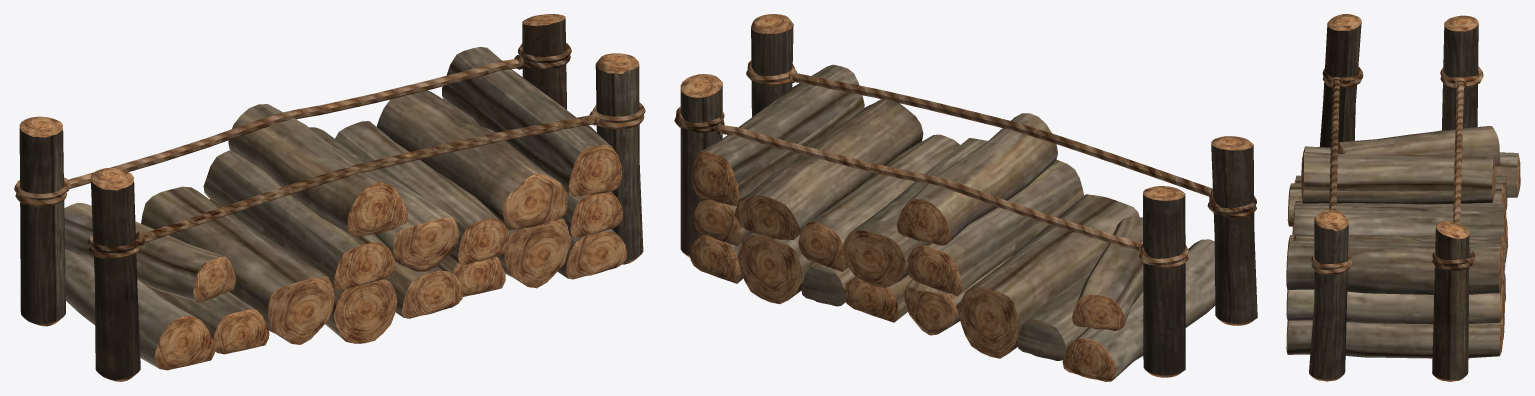
The model's file is val_firewood.glb.
3 views of the same model, side by side, from view 1: azimuth 30°, elevation 25°; view 2: azimuth 150°, elevation 25°; view 3: azimuth 270°, elevation 25° (orthographic). The views are drawn at different scales.
Parts seen in each view (by area): view 1: KB3D_VAL_Firewood_A_Main; view 2: KB3D_VAL_Firewood_A_Main; view 3: KB3D_VAL_Firewood_A_Main.
Boxes of the visible parts, x1,y1,x2,y2 form: KB3D_VAL_Firewood_A_Main: [14, 14, 645, 381]; KB3D_VAL_Firewood_A_Main: [674, 14, 1257, 381]; KB3D_VAL_Firewood_A_Main: [1286, 14, 1520, 381].
Bounding box in the file's own units: 1.64 × 0.5828 × 0.7498.
4 materials, 4 textured.
